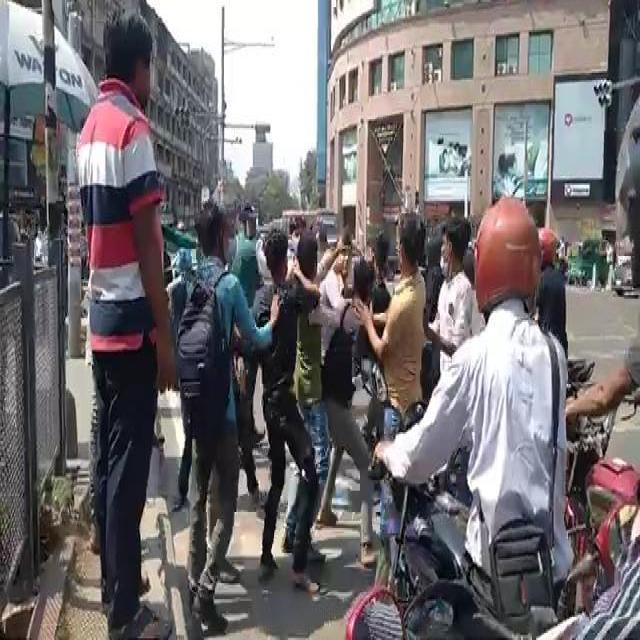fight: (53, 13, 182, 591), (444, 196, 590, 609), (247, 209, 428, 511)
